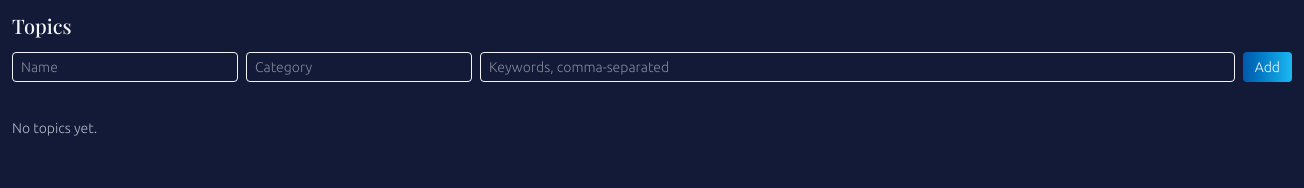
Test: TopicsPage › adds a topic via POST and reloads the list
Type "Data Strategy" into the field with placeholder "Name".
click(125, 67); type("Data Strategy")  # box [12,52,238,82]
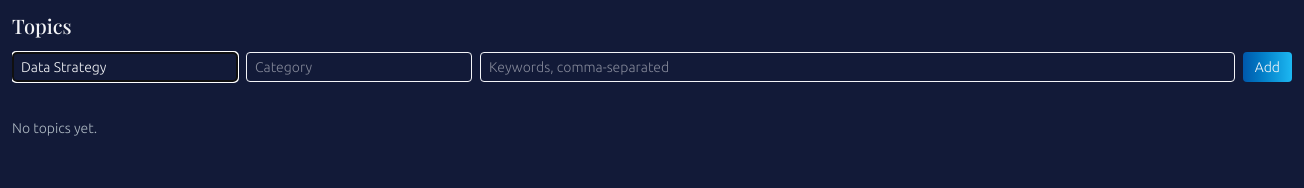
Type "Data Strategy" into the field with placeholder "Category".
click(359, 67); type("Data Strategy")  # box [246,52,472,82]
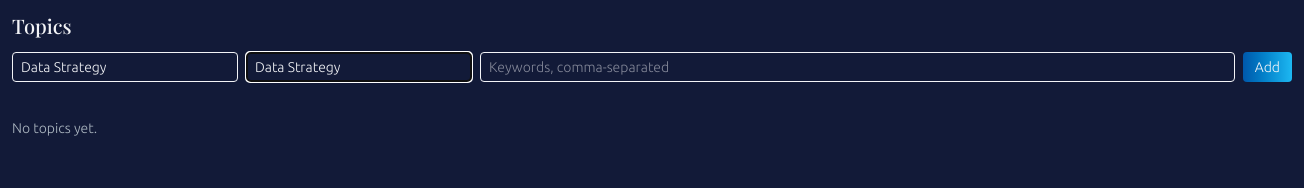
Type "Gen AI" into the field with placeholder "Keywords, comma-separated".
click(857, 67); type("Gen AI")  # box [480,52,1235,82]
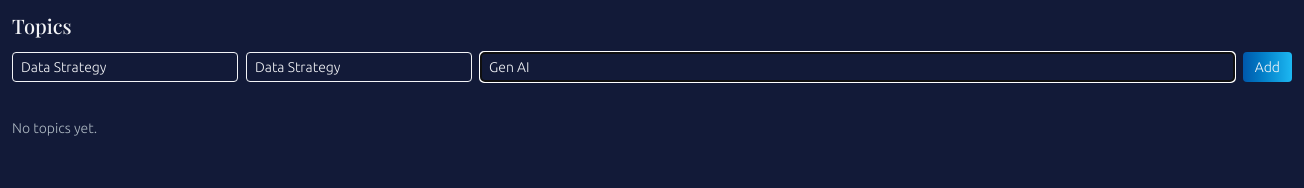
Click the button "Add".
click(1267, 67)  # box [1243,52,1292,82]
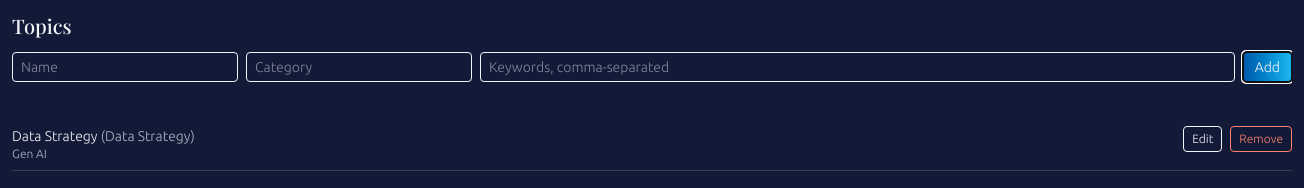
Check: the text "Data Strategy" is shown, box [12,128,98,144]
